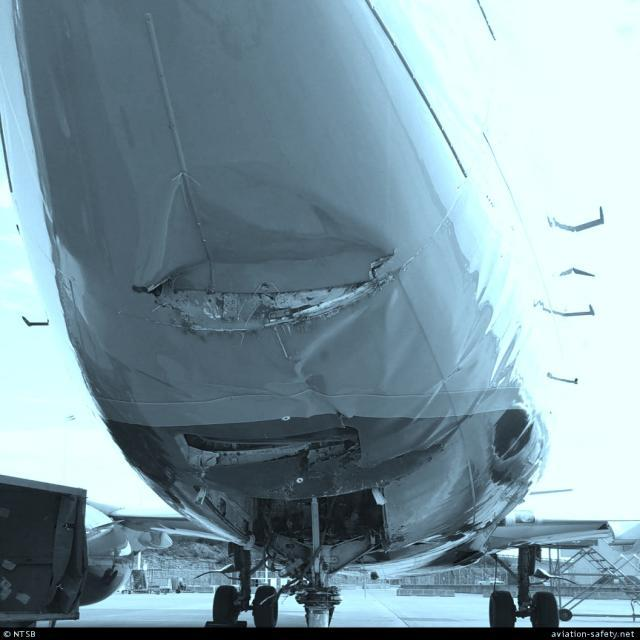crack: (363, 243, 408, 285)
dent: (145, 174, 396, 285), (295, 305, 378, 379)
